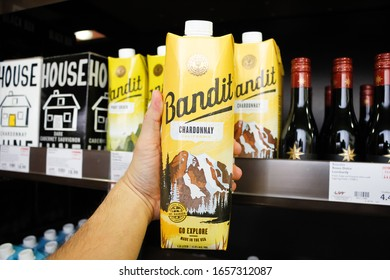carton: (155, 11, 241, 255)
